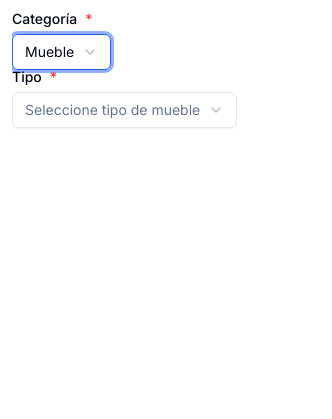
Scenario: AssetTypeSelector › elegir "Mueble" habilita el segundo selector con los 8 tipos de mueble
Earlier steps of the test are not shown.
Click the dropdown labelled "Seleccione tipo de mueble". click: (125, 110)
box: [12, 92, 237, 128]
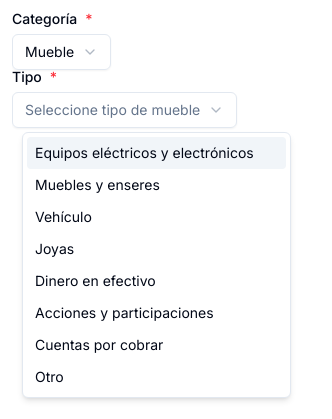
Expected: the option "Equipos eléctricos y electrónicos" is shown, [27, 137, 286, 169]
Expected: the option "Joyas" is shown, [35, 240, 74, 257]
Expected: the option "Otro" is shown, [35, 368, 64, 385]
